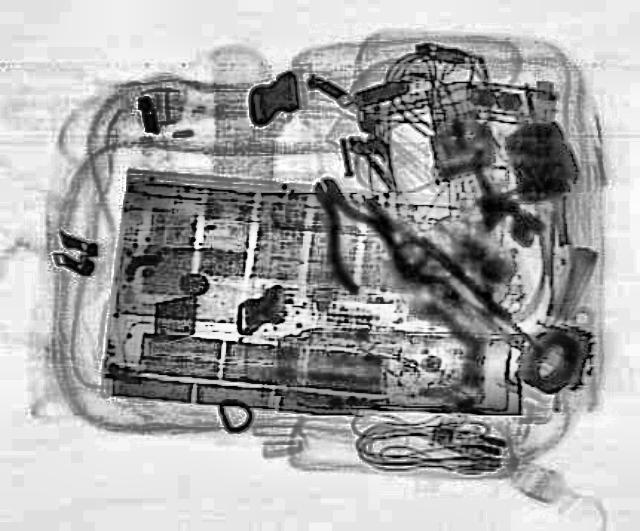Pliers: (288, 169, 409, 293)
